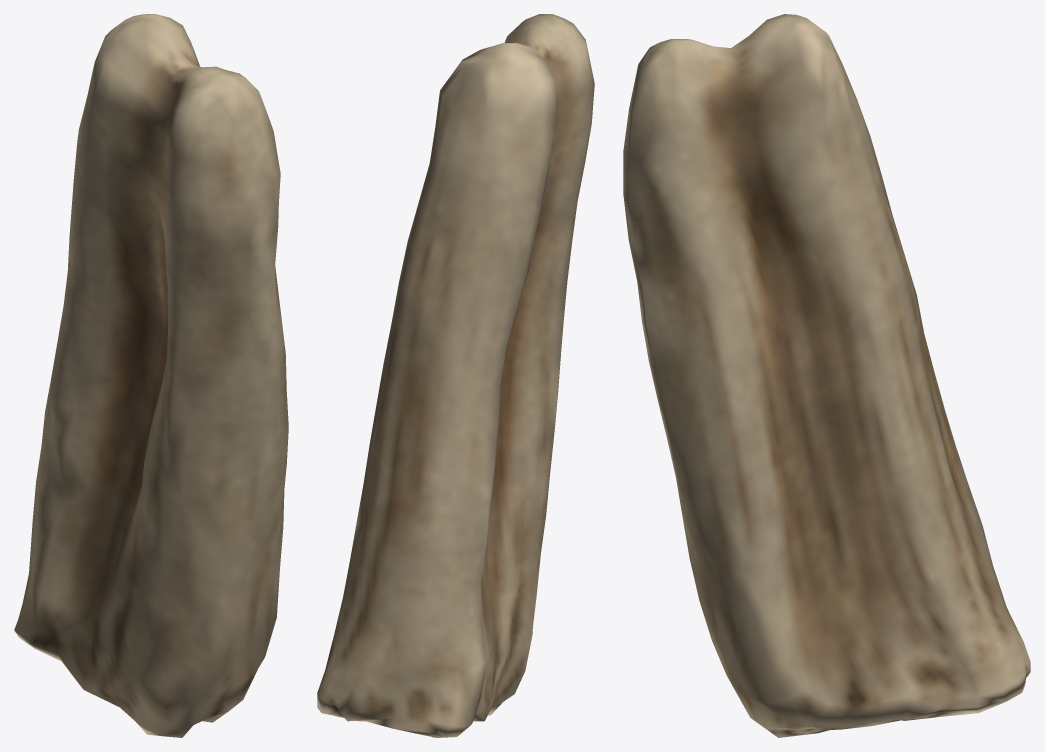
The model's file is Maxilary_Molar4.glb.
3 renders of one model, left to right at view 1: azimuth 30°, elevation 25°; view 2: azimuth 150°, elevation 25°; view 3: azimuth 270°, elevation 25°, orthographic. The views are drawn at different scales.
Visible parts, largest first — view 1: Group14130_Mesh.024; view 2: Group14130_Mesh.024; view 3: Group14130_Mesh.024.
Boxes of the visible parts, <box> form: Group14130_Mesh.024: <box>14,14,288,737</box>; Group14130_Mesh.024: <box>317,14,594,737</box>; Group14130_Mesh.024: <box>623,14,1030,737</box>.
Size of the model in its own units: 0.0208 by 0.0831 by 0.0438.
1 material, 1 textured.
